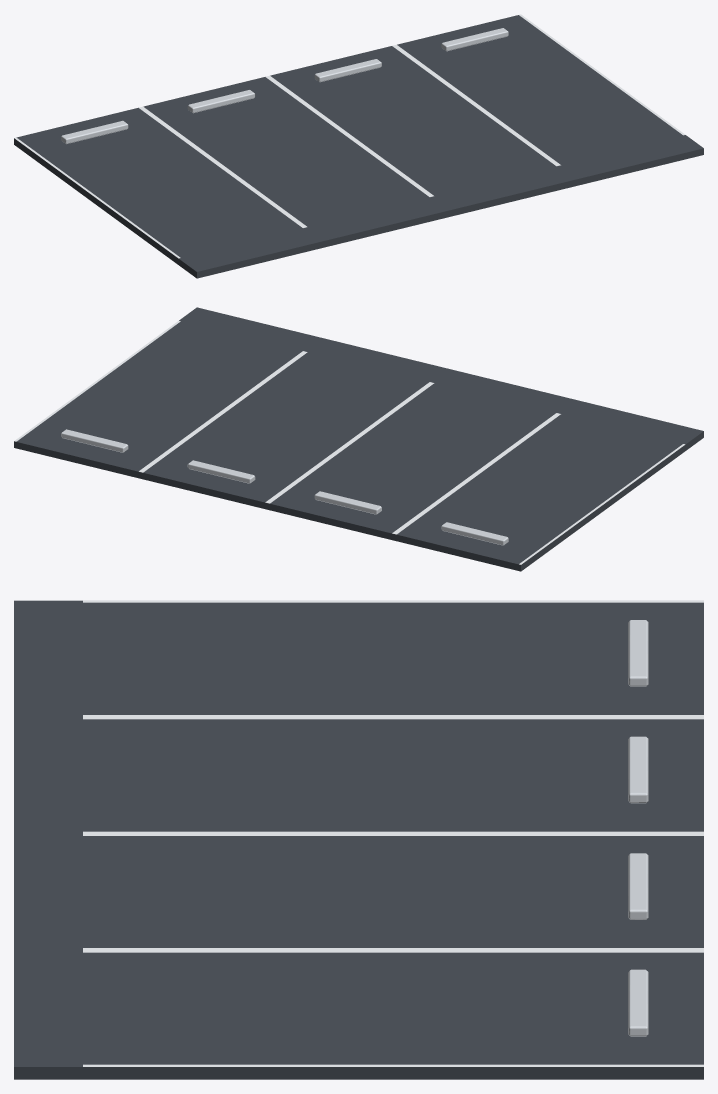
Rendered from CM_Road_Parking.fbx.
3 renders of one model, top to bottom at view 1: azimuth 30°, elevation 25°; view 2: azimuth 150°, elevation 25°; view 3: azimuth 270°, elevation 25°, orthographic. The views are drawn at different scales.
Parts seen in each view (by area): view 1: Road; view 2: Road; view 3: Road.
Boxes of the visible parts, x1,y1,x2,y2 form: Road: [14, 14, 703, 278]; Road: [14, 307, 703, 571]; Road: [14, 600, 703, 1079].
Bounding box in the file's own units: 32 × 20 × 0.75.
1 material, 1 textured.
